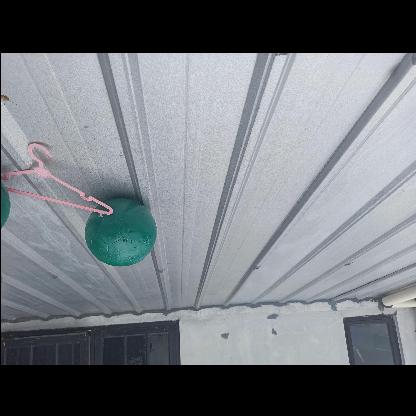green_ball: (84, 196, 156, 268)
